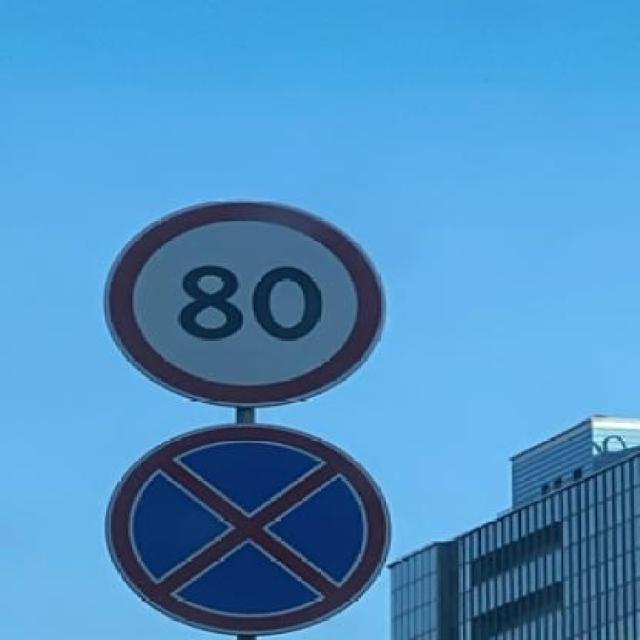forb_speed_over_80: (100, 196, 383, 410)
